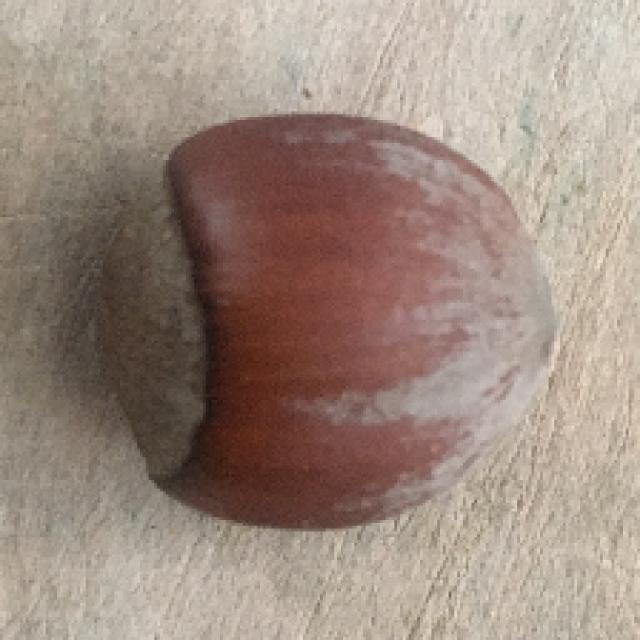qualityHazelnut: (92, 119, 560, 531)
